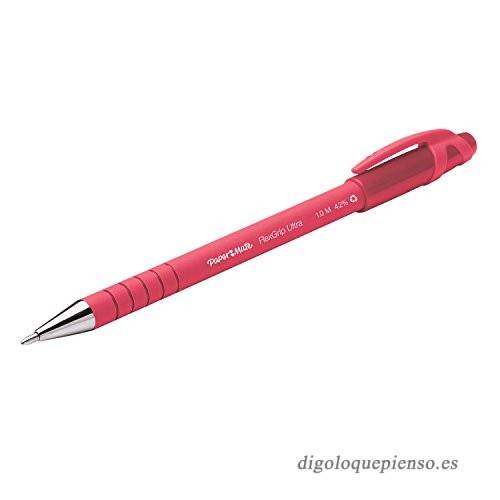Boligrafo: (18, 129, 480, 348)
